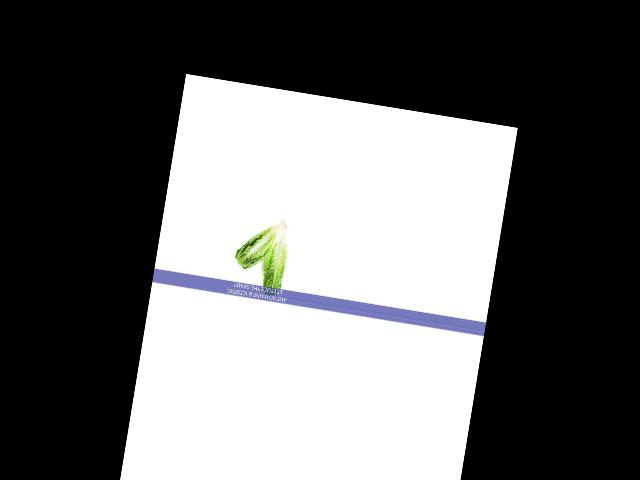lettuce: (235, 207, 288, 277)
